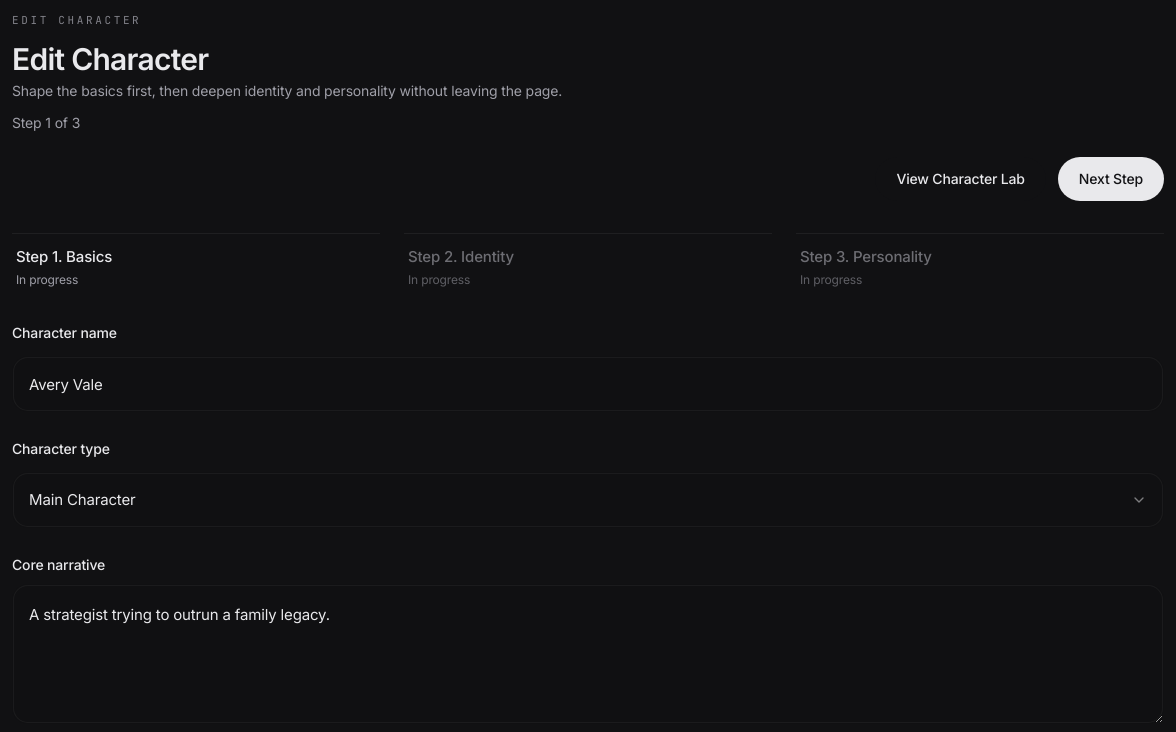
Test: CharacterLab › starts edit mode on the full-page form and preserves the draft across steps
Step 1. Replace the text in the field labelled "Character name" with "Avery Stone" → (588, 384), box [12,356,1164,412]
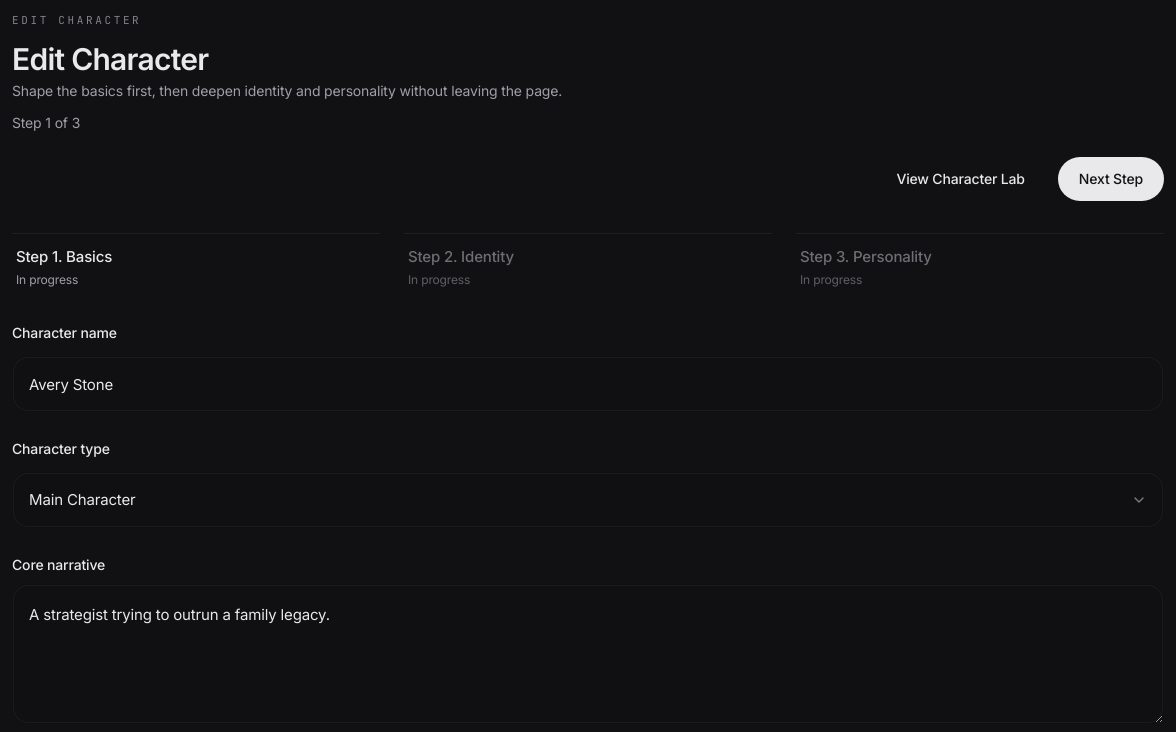
Step 2. Click the button "Next Step" → (1111, 178), box [1058,156,1164,200]
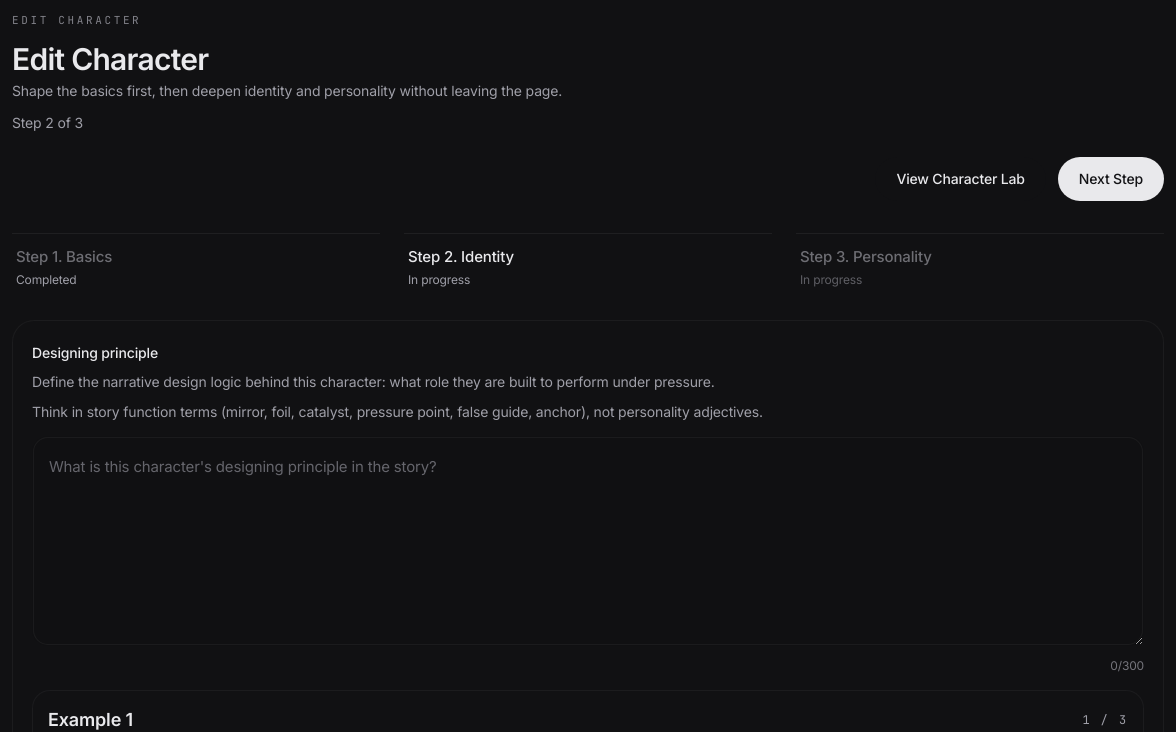
Expected: the text box labelled "Designing principle" is shown, [32,436,1144,646]
Step 3. Click the button "Step 1. Basics Completed" → (34, 256), box [12,232,380,288]
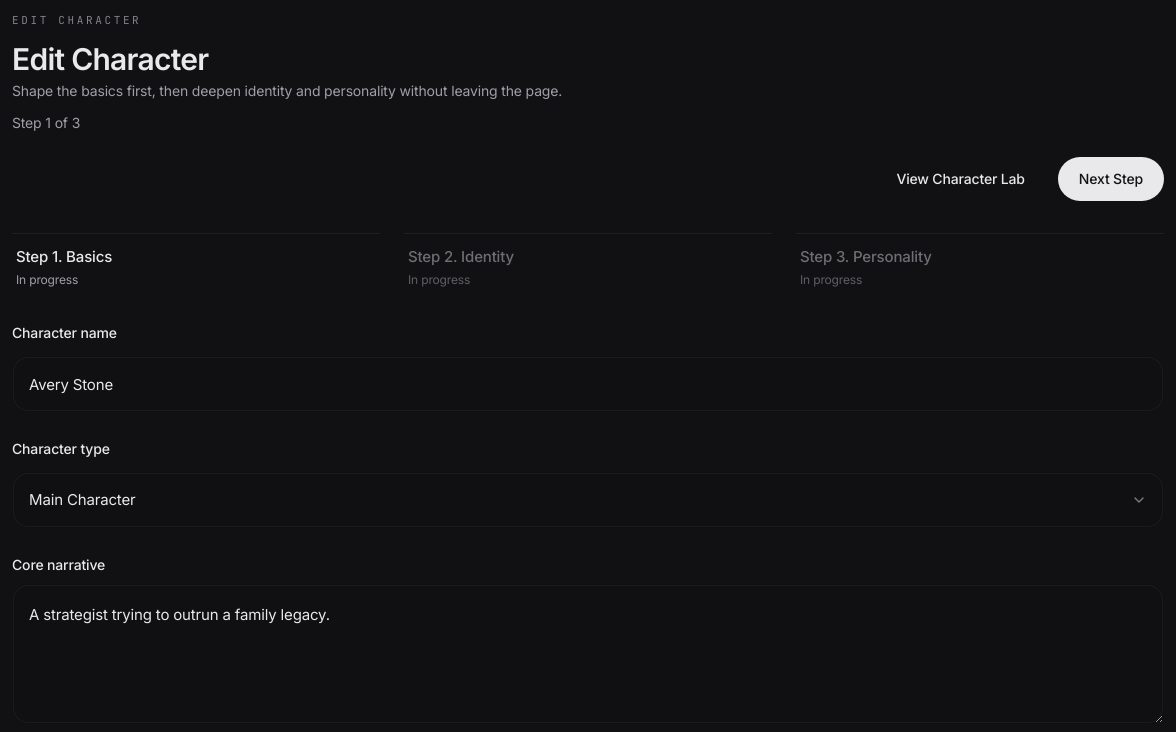
Expected: the field showing "Avery Stone" is shown, [12,356,1164,412]
